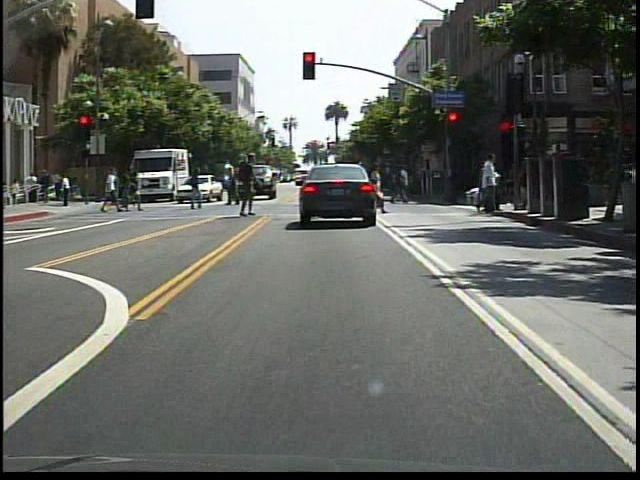person: (230, 152, 263, 220), (472, 150, 503, 219), (368, 163, 392, 221), (103, 167, 126, 216), (186, 168, 207, 215), (115, 167, 136, 212), (227, 167, 244, 208), (128, 170, 142, 215)
